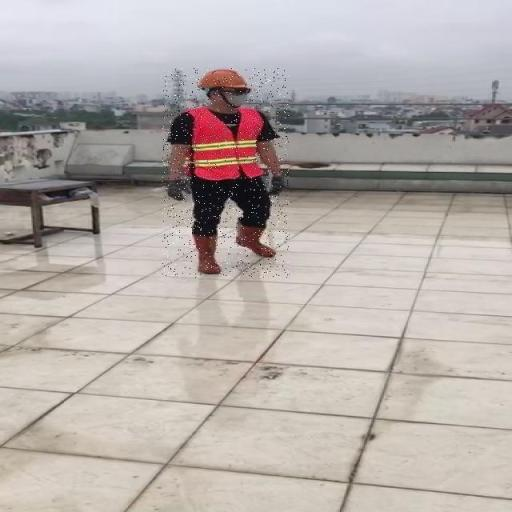Boots: (236, 222, 276, 258), (192, 234, 223, 276)
Helmet: (197, 68, 252, 90)
Person: (162, 68, 290, 278)
